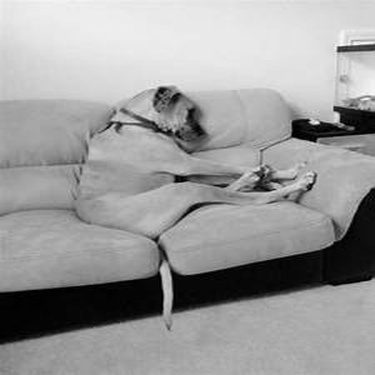dog: (74, 85, 318, 334)
